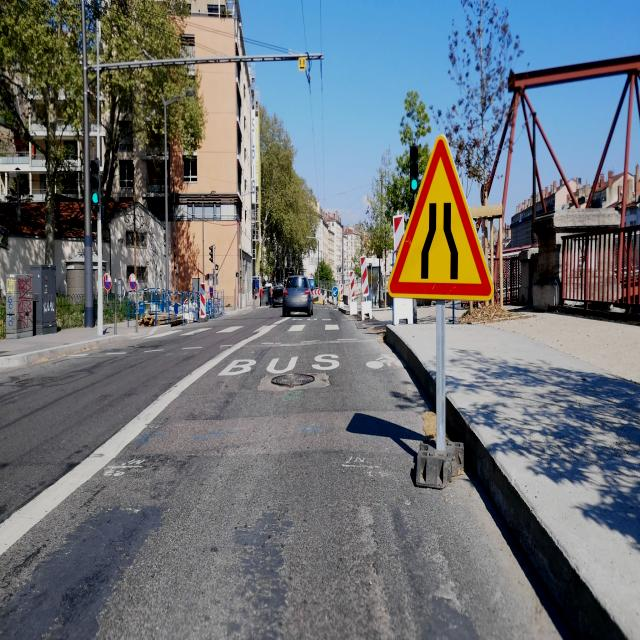car: (282, 273, 314, 317), (271, 279, 286, 306)
